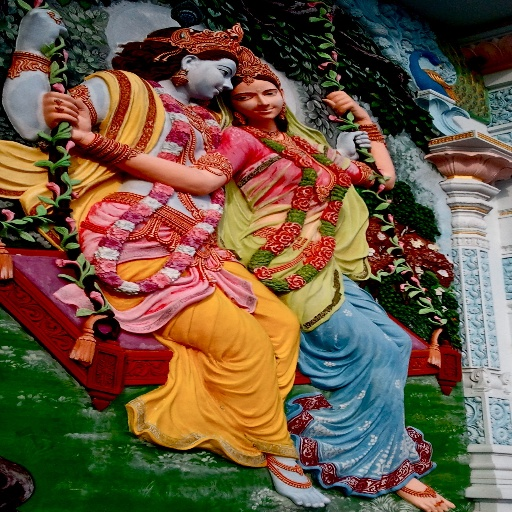hand: (15, 4, 72, 55), (26, 80, 80, 129), (319, 88, 370, 122), (334, 129, 374, 160)
